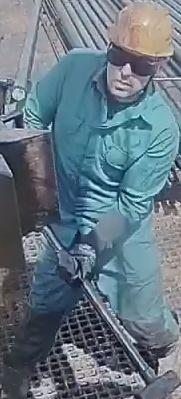gloves: (50, 240, 96, 286)
goggles: (105, 40, 160, 78)
helmet: (106, 0, 174, 58)
vest: (49, 47, 181, 271)
